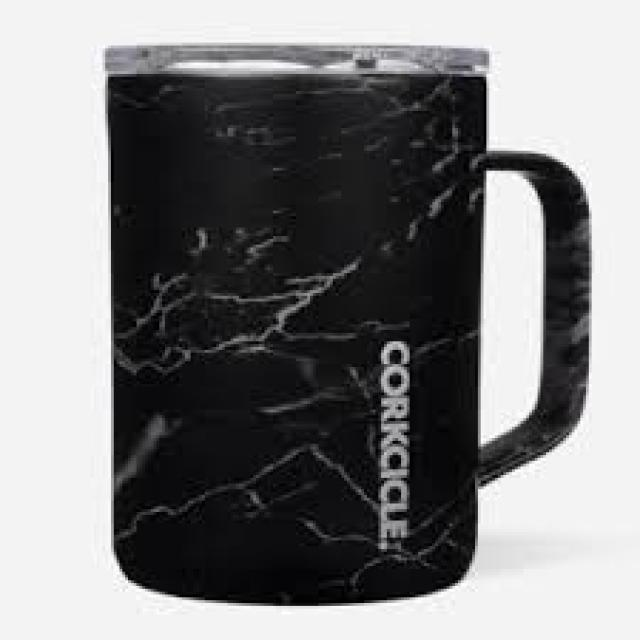bottle: (102, 43, 593, 602)
